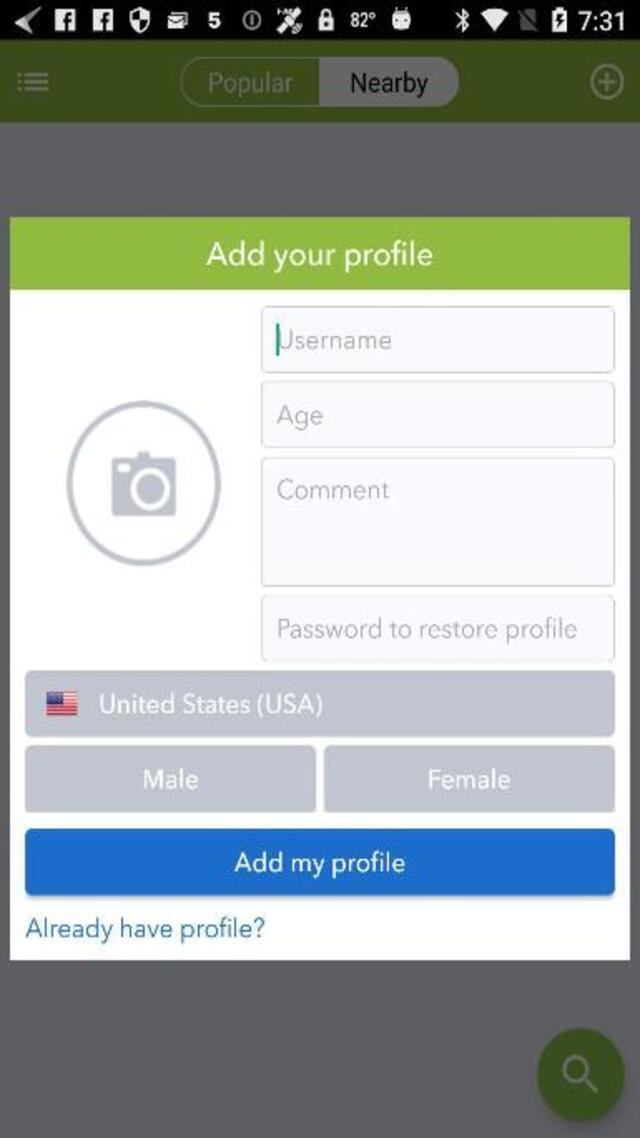Icon: (537, 1029, 623, 1123), (590, 63, 624, 100), (43, 686, 79, 716), (15, 72, 48, 92)
Image: (66, 401, 220, 566)
Text: (273, 614, 578, 645), (94, 689, 326, 721), (207, 240, 431, 272), (25, 918, 264, 942), (233, 850, 408, 880), (424, 766, 514, 797), (278, 330, 390, 350), (278, 479, 389, 499), (137, 762, 202, 793), (276, 406, 322, 430)
TextButton: (25, 826, 613, 894), (27, 671, 615, 737), (323, 746, 614, 812), (26, 746, 316, 812), (319, 57, 459, 107), (180, 57, 318, 107)
